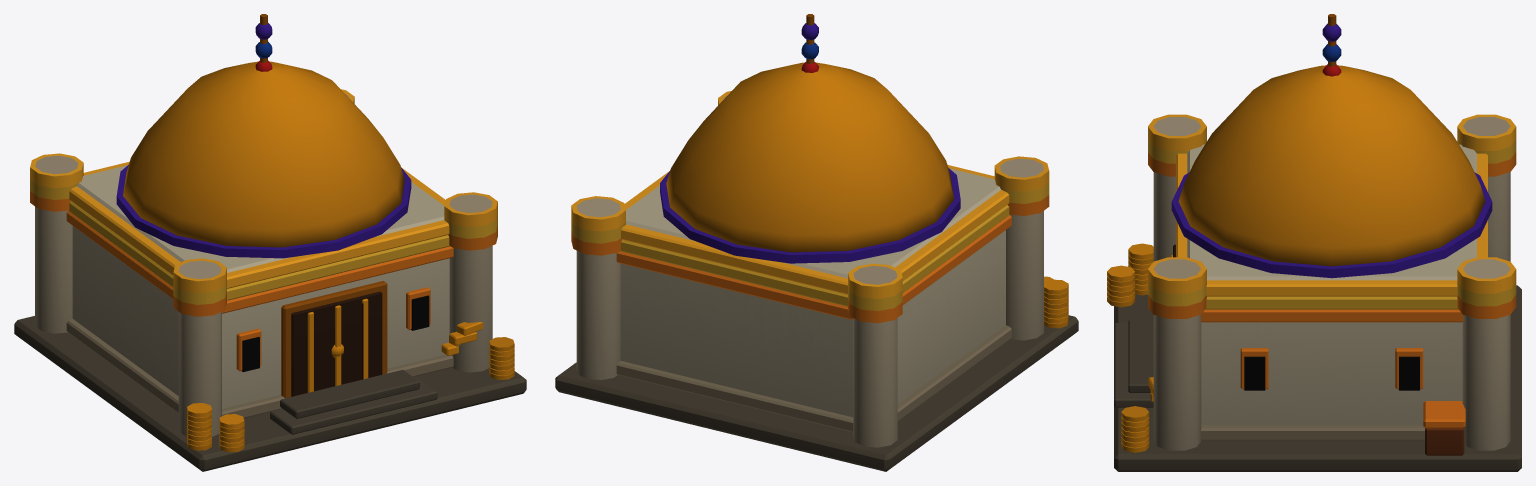
The model's file is b_vault.glb.
3 views of the same model, side by side, from view 1: azimuth 30°, elevation 25°; view 2: azimuth 150°, elevation 25°; view 3: azimuth 270°, elevation 25° (orthographic). The views are drawn at different scales.
Visible parts, largest first — view 1: vault_t1_body, vault_t3_body, vault_t2_body; view 2: vault_t3_body, vault_t1_body, vault_t2_body; view 3: vault_t1_body, vault_t3_body, vault_t2_body.
Boxes of the visible parts, box(x1,y1,x2,y2) form: vault_t1_body: box(14, 60, 526, 471); vault_t3_body: box(30, 14, 514, 435); vault_t2_body: box(30, 40, 514, 436); vault_t3_body: box(571, 14, 1068, 446); vault_t1_body: box(555, 62, 1078, 471); vault_t2_body: box(571, 41, 1068, 446); vault_t1_body: box(1107, 64, 1521, 471); vault_t3_body: box(1107, 14, 1516, 450); vault_t2_body: box(1107, 42, 1516, 450).
Bounding box in the file's own units: 2.92 × 2.92 × 2.95.
